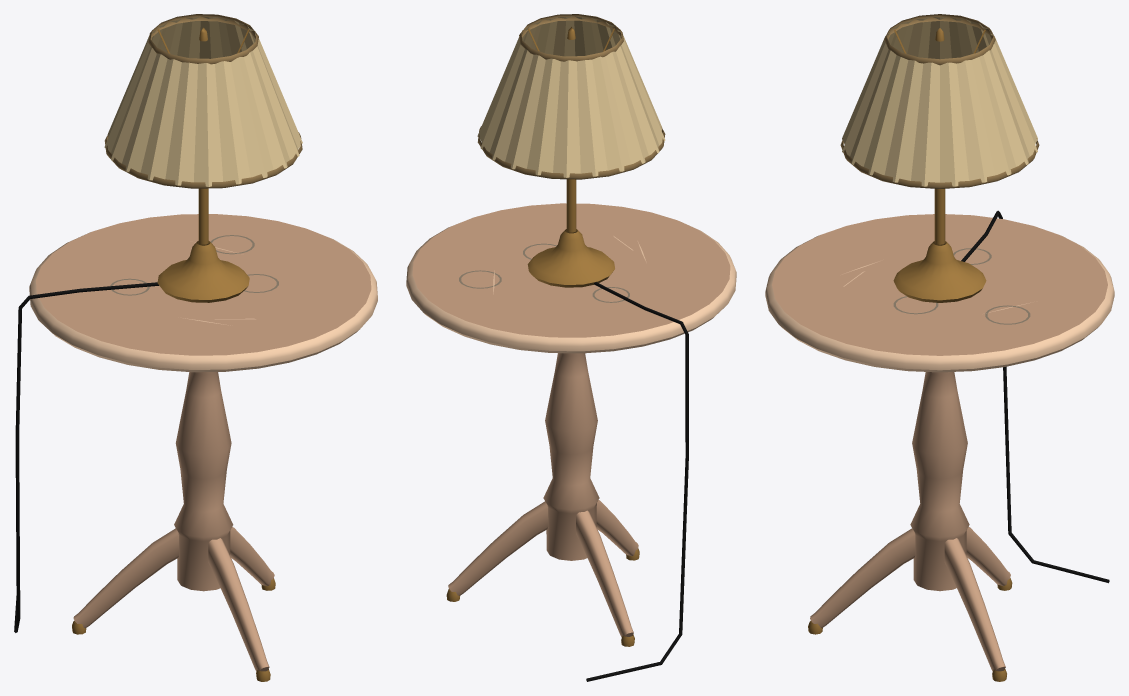
The model's file is side_table@1.glb.
3 views of the same model, side by side, from view 1: azimuth 30°, elevation 25°; view 2: azimuth 150°, elevation 25°; view 3: azimuth 270°, elevation 25° (orthographic). The views are drawn at different scales.
Visible parts, largest first — view 1: side_table2, side_table7, side_table1, side_table4, side_table8, side_table9, side_table5; view 2: side_table2, side_table7, side_table1, side_table4, side_table8, side_table9, side_table5; view 3: side_table2, side_table7, side_table1, side_table4, side_table8, side_table9, side_table5.
Boxes of the visible parts, x1,y1,x2,y2 form: side_table2: (36, 214, 371, 671); side_table7: (104, 16, 302, 186); side_table1: (29, 232, 377, 372); side_table4: (72, 27, 275, 681); side_table8: (151, 16, 256, 58); side_table9: (104, 14, 302, 188); side_table5: (14, 282, 158, 632); side_table2: (412, 203, 730, 637); side_table7: (477, 16, 665, 177); side_table1: (406, 221, 736, 353); side_table4: (446, 27, 639, 646); side_table8: (521, 16, 620, 56); side_table9: (477, 14, 665, 179); side_table5: (586, 282, 688, 681); side_table2: (772, 214, 1107, 671); side_table7: (842, 17, 1037, 186); side_table1: (765, 235, 1114, 372); side_table4: (808, 28, 1012, 681); side_table8: (885, 17, 994, 62); side_table9: (840, 14, 1039, 188); side_table5: (961, 210, 1109, 583).
Bounding box in the file's own units: 0.6092 × 1.15 × 0.6.
